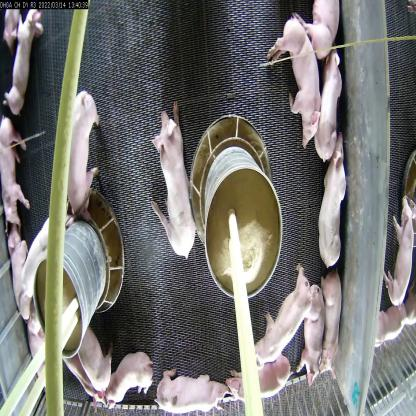Pig: (147, 94, 198, 258), (270, 23, 322, 149), (258, 272, 314, 366), (64, 80, 101, 208), (65, 306, 120, 390), (158, 361, 237, 414), (6, 7, 45, 113), (20, 211, 69, 294), (312, 49, 344, 164), (0, 118, 33, 228), (315, 147, 344, 269), (233, 349, 296, 405), (106, 342, 150, 408), (320, 268, 342, 383), (9, 226, 35, 321), (304, 295, 322, 386), (28, 320, 48, 395)
